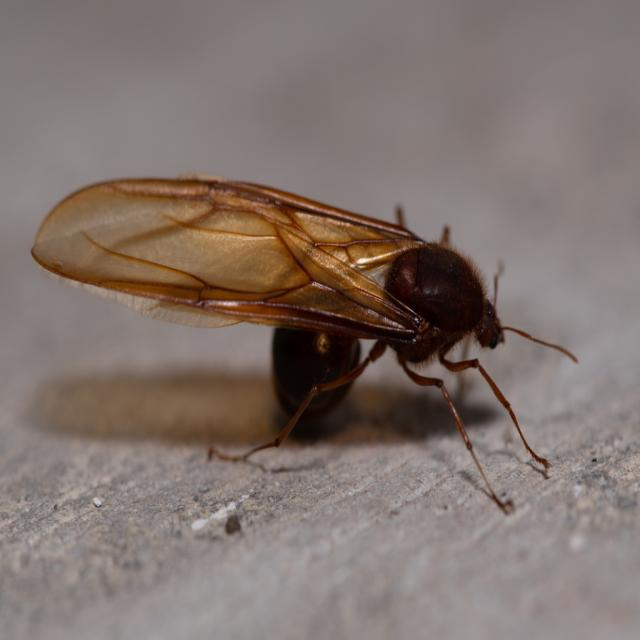Alive-Male-Alate: (30, 173, 579, 518)
